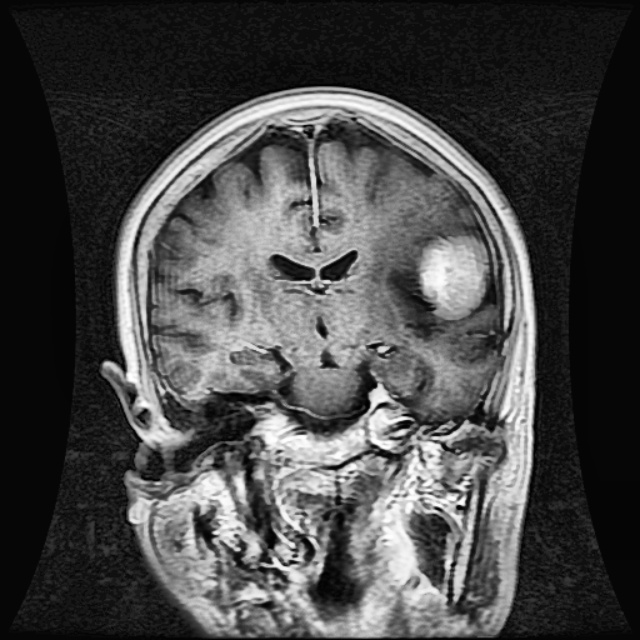Glioma: (419, 234, 489, 317)
